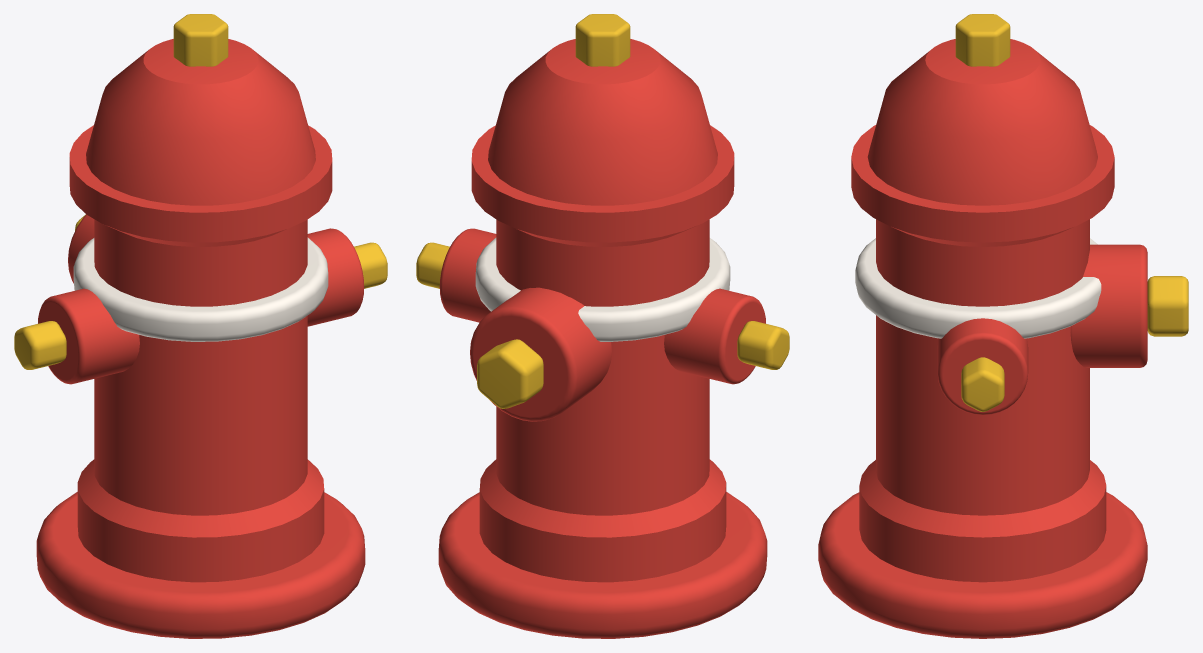
The model's file is hydrant.glb.
3 renders of one model, left to right at view 1: azimuth 30°, elevation 25°; view 2: azimuth 150°, elevation 25°; view 3: azimuth 270°, elevation 25°, orthographic.
Visible parts, largest first — view 1: hydrant; view 2: hydrant; view 3: hydrant.
Boxes of the visible parts, x1,y1,x2,y2 form: hydrant: [14, 14, 387, 638]; hydrant: [416, 14, 789, 638]; hydrant: [818, 14, 1188, 638].
Bounding box in the file's own units: 0.5 × 0.74 × 0.45.
Materials: 1 (1 with a texture image).
